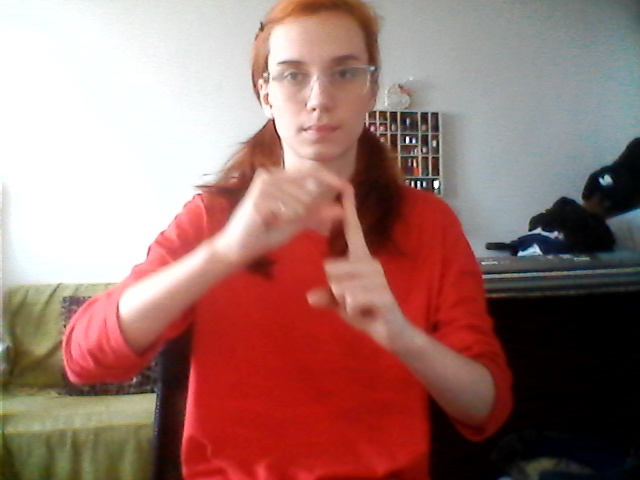p: (238, 162, 402, 347)
